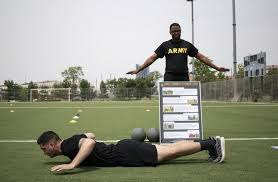Caution: (36, 23, 208, 161)
